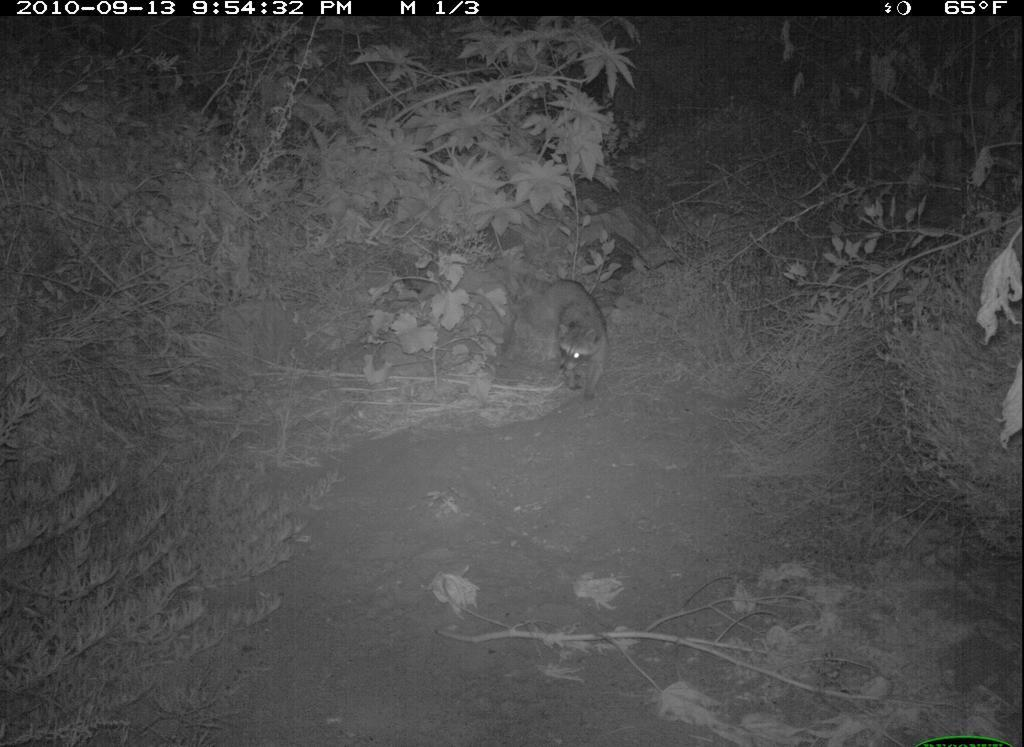raccoon: (511, 269, 621, 406)
